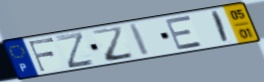E: (164, 14, 205, 51)
F: (28, 36, 58, 73)
I: (128, 22, 153, 58), (211, 9, 231, 45)
Z: (90, 25, 137, 63), (53, 31, 97, 70)
